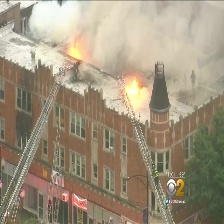fire: (124, 77, 146, 102), (65, 40, 85, 62)
smoke: (32, 1, 224, 73)
